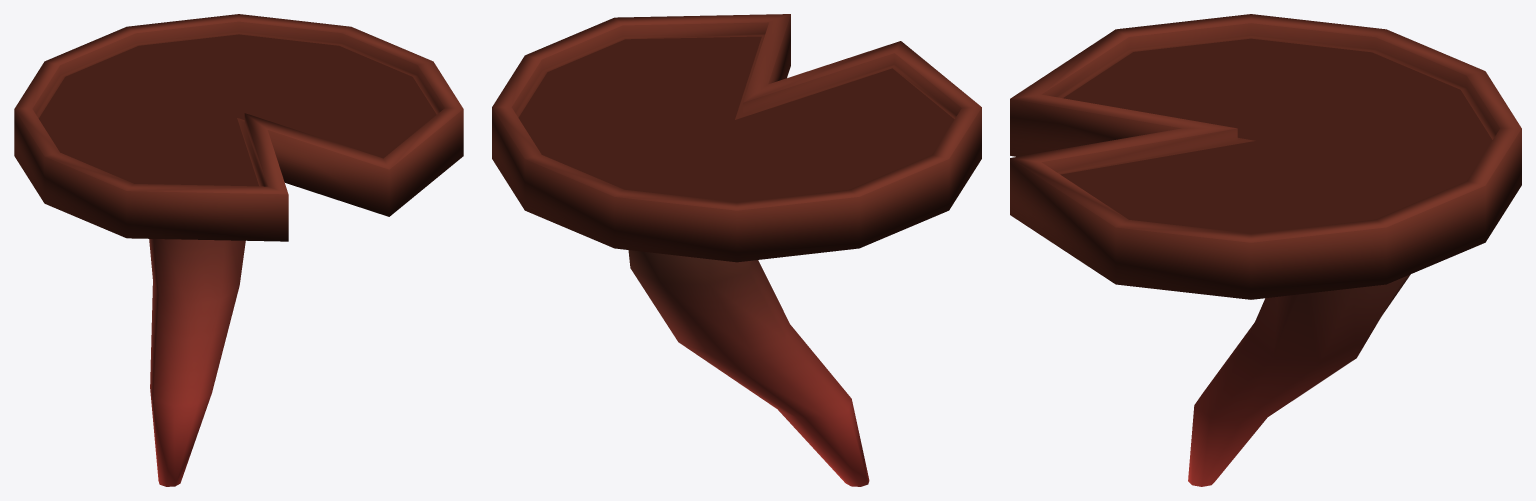
File: anp_PlantFlower_12.fbx
3 renders of one model, left to right at view 1: azimuth 30°, elevation 25°; view 2: azimuth 150°, elevation 25°; view 3: azimuth 270°, elevation 25°, orthographic. The views are drawn at different scales.
Parts seen in each view (by area): view 1: pf12; view 2: pf12; view 3: pf12.
Part boxes in pixels (left/top/right/bottom): pf12: left=14, top=14, right=463, bottom=486; pf12: left=492, top=14, right=981, bottom=486; pf12: left=1010, top=14, right=1521, bottom=486.
Size of the model in its own units: 55.45 by 45.84 by 52.4.
